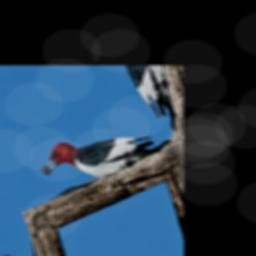Woodpecker: (37, 97, 159, 215)
